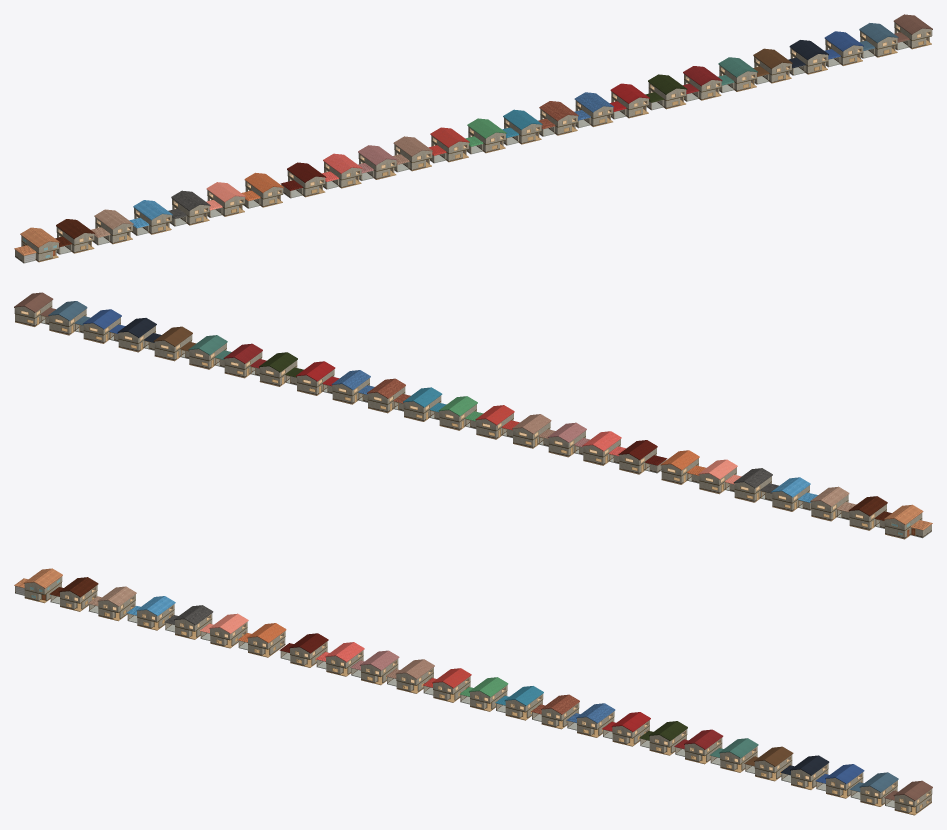
Rendered from house_007_01_V2.fbx.
3 renders of one model, top to bottom at view 1: azimuth 30°, elevation 25°; view 2: azimuth 150°, elevation 25°; view 3: azimuth 330°, elevation 25°, orthographic.
Parts seen in each view (by area): view 1: House_007_V2_8, House_007_V2_4, House_007_V2_3, House_007_V2_7, House_007_V2_5, House_007_V2_18, House_007_V2_13, House_007_V2_12, House_007_V2_15, House_007_V2_22, House_007_V2_9, House_007_V2_11 (+13 smaller); view 2: House_007_V2_8, House_007_V2_1, House_007_V2_4, House_007_V2_3, House_007_V2_7, House_007_V2_5, House_007_V2_18, House_007_V2_13, House_007_V2_12, House_007_V2_9, House_007_V2_22, House_007_V2_15 (+13 smaller); view 3: House_007_V2_7, House_007_V2_25, House_007_V2_2, House_007_V2_3, House_007_V2_6, House_007_V2_4, House_007_V2_12, House_007_V2_17, House_007_V2_21, House_007_V2_8, House_007_V2_11, House_007_V2_14 (+13 smaller).
Part boxes in pixels (x1,y1,x2,y2): House_007_V2_8: (280, 162, 326, 198); House_007_V2_4: (129, 200, 172, 235); House_007_V2_3: (91, 209, 133, 245); House_007_V2_7: (241, 172, 283, 208); House_007_V2_5: (168, 190, 210, 226); House_007_V2_18: (645, 74, 687, 110); House_007_V2_13: (465, 118, 506, 154); House_007_V2_12: (428, 127, 469, 163); House_007_V2_15: (538, 101, 578, 136); House_007_V2_22: (788, 40, 828, 75); House_007_V2_9: (322, 153, 362, 189); House_007_V2_11: (393, 136, 432, 172); House_007_V2_8: (618, 440, 667, 474); House_007_V2_1: (884, 504, 932, 539); House_007_V2_4: (771, 477, 817, 511); House_007_V2_3: (810, 486, 856, 521); House_007_V2_7: (660, 450, 705, 484); House_007_V2_5: (733, 468, 778, 502); House_007_V2_18: (259, 352, 303, 386); House_007_V2_13: (438, 396, 483, 430); House_007_V2_12: (475, 405, 519, 439); House_007_V2_9: (582, 431, 625, 465); House_007_V2_22: (117, 318, 161, 352); House_007_V2_15: (367, 378, 410, 413); House_007_V2_7: (237, 623, 286, 657); House_007_V2_25: (884, 780, 932, 815); House_007_V2_2: (49, 577, 98, 611); House_007_V2_3: (88, 586, 136, 621); House_007_V2_6: (199, 613, 248, 648); House_007_V2_4: (127, 596, 175, 630); House_007_V2_12: (423, 668, 471, 702); House_007_V2_17: (602, 712, 650, 746); House_007_V2_21: (744, 746, 793, 781); House_007_V2_8: (279, 633, 328, 667); House_007_V2_11: (386, 659, 434, 693); House_007_V2_14: (495, 686, 543, 720).
Size of the model in its own units: 17.78 by 0.3647 by 0.6189.
